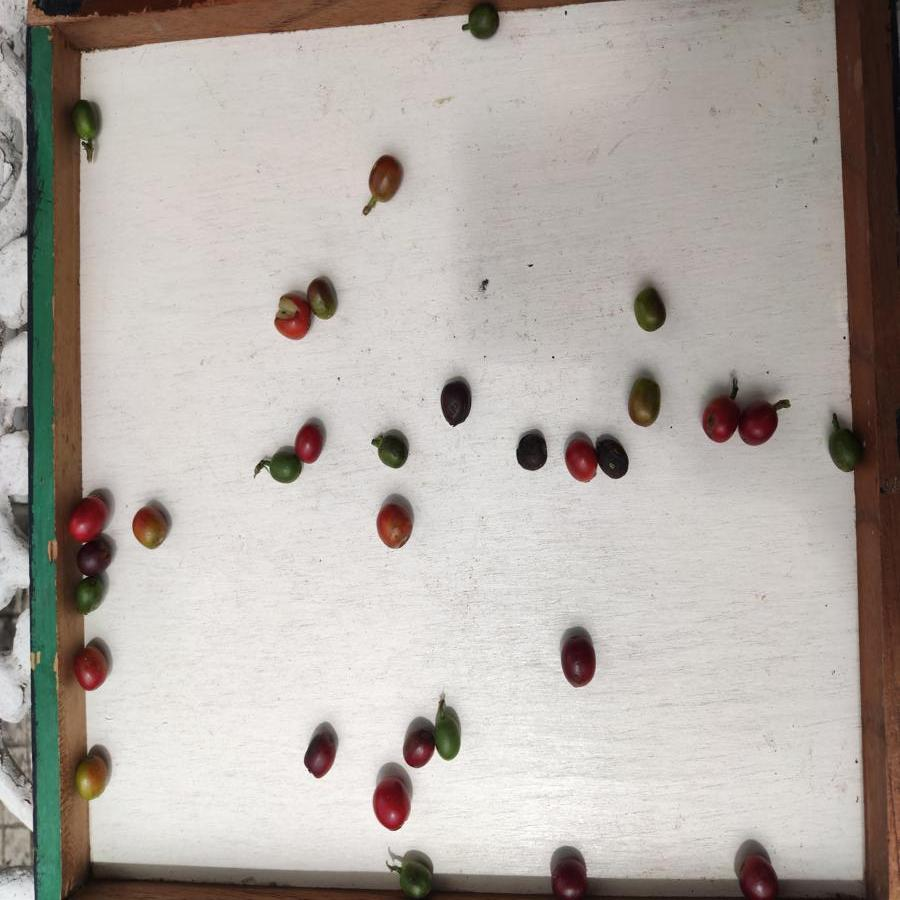Inmaduro: (827, 426, 865, 473), (395, 858, 436, 897), (71, 96, 101, 143), (373, 435, 409, 471), (434, 715, 462, 761), (264, 451, 302, 483), (465, 6, 501, 39), (75, 576, 104, 613)
Maduro: (371, 776, 414, 831), (66, 496, 109, 540), (374, 503, 414, 548), (72, 645, 112, 689), (275, 296, 311, 341), (702, 396, 736, 442), (563, 439, 598, 482), (296, 424, 325, 464)
Pinton: (627, 377, 662, 429), (73, 753, 108, 802), (367, 155, 403, 201), (132, 505, 168, 550), (634, 288, 668, 335), (308, 277, 338, 322)
Sobremaduro: (558, 633, 598, 691), (737, 854, 781, 900), (737, 399, 779, 447), (549, 857, 589, 900), (439, 378, 472, 426), (302, 734, 337, 775), (596, 437, 630, 479), (515, 434, 549, 470), (403, 729, 433, 769)
